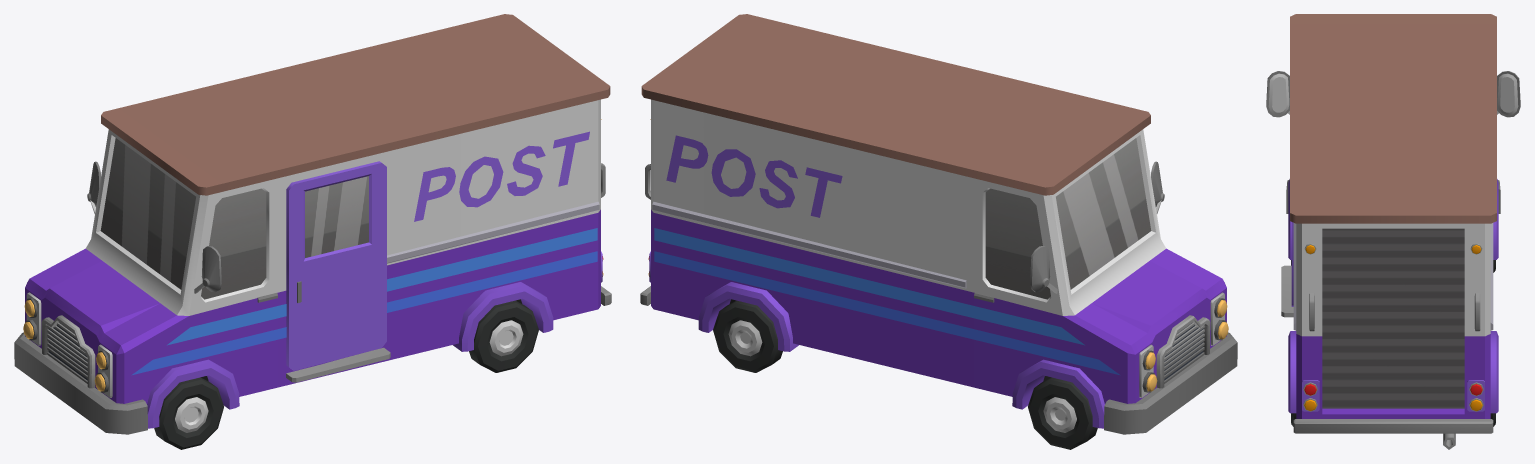
Rendered from PostCar_1_G.fbx.
3 views of the same model, side by side, from view 1: azimuth 30°, elevation 25°; view 2: azimuth 150°, elevation 25°; view 3: azimuth 270°, elevation 25° (orthographic).
Parts seen in each view (by area): view 1: PostCar_1_G, RL, FL; view 2: PostCar_1_G, RR, FR; view 3: PostCar_1_G.
Part boxes in pixels (x1,y1,x2,y2): PostCar_1_G: (14, 14, 611, 434); RL: (469, 300, 538, 372); FL: (154, 377, 223, 449); PostCar_1_G: (640, 14, 1237, 434); RR: (713, 300, 782, 372); FR: (1028, 377, 1097, 449); PostCar_1_G: (1266, 14, 1520, 449).
Bounding box in the file's own units: 414 × 202 × 180.
